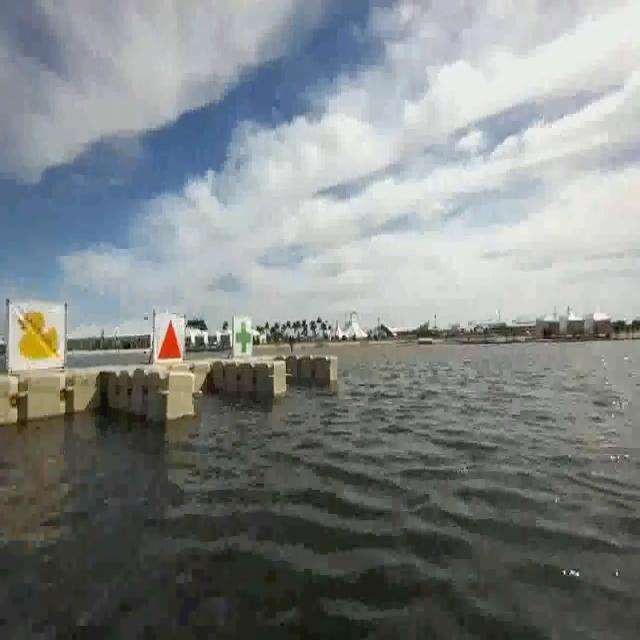red-dot: (155, 311, 188, 363), (232, 315, 254, 360)
yellow-duck: (16, 313, 59, 362)
